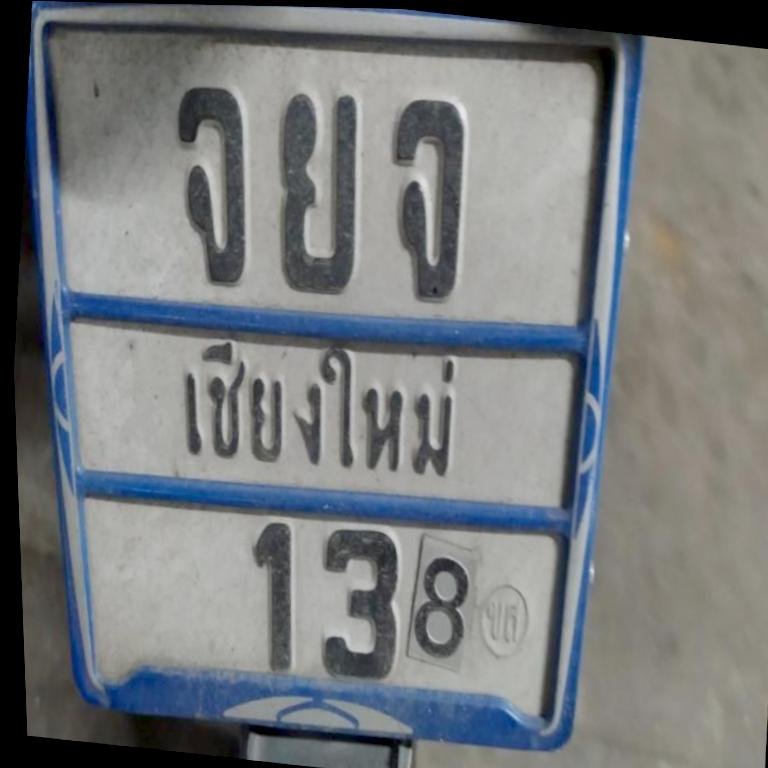license plate: (25, 1, 642, 750)
